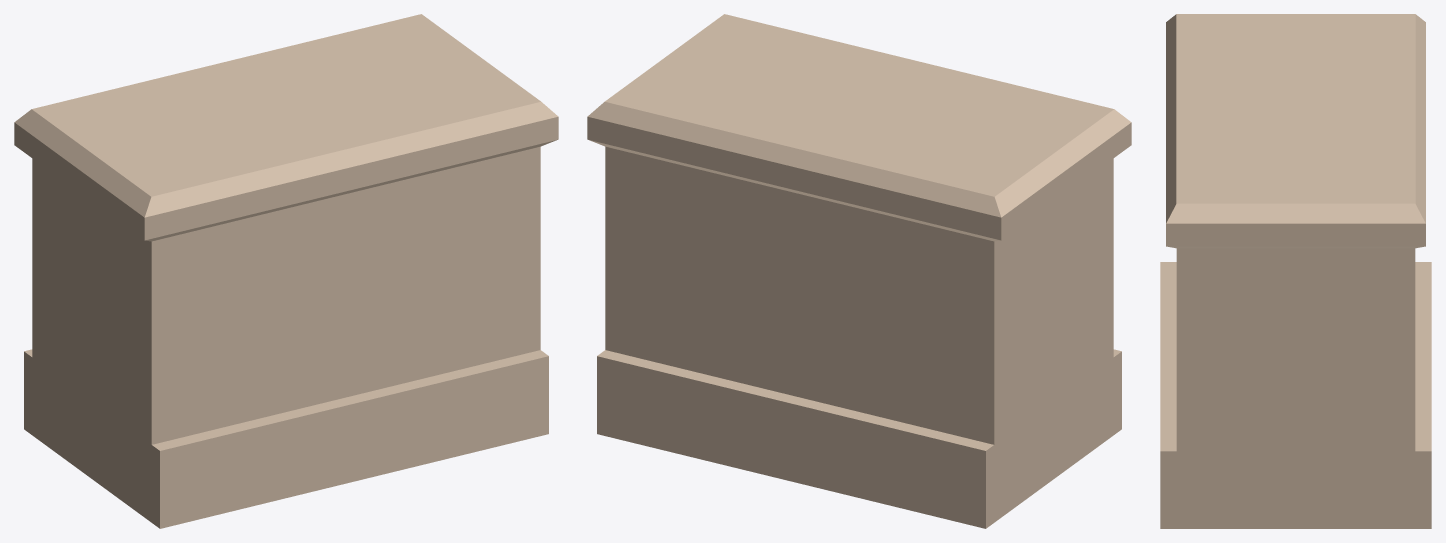
File: BC_Frame_A_01.fbx
The picture shows the model from 3 angles, left to right: view 1: azimuth 30°, elevation 25°; view 2: azimuth 150°, elevation 25°; view 3: azimuth 270°, elevation 25°; orthographic projection.
Parts seen in each view (by area): view 1: BC_Frame_A_01; view 2: BC_Frame_A_01; view 3: BC_Frame_A_01.
Part boxes in pixels (left/top/right/bottom): BC_Frame_A_01: left=14, top=14, right=558, bottom=528; BC_Frame_A_01: left=587, top=14, right=1131, bottom=528; BC_Frame_A_01: left=1160, top=14, right=1431, bottom=528.
Size of the model in its own units: 163 by 122 by 92.67.
